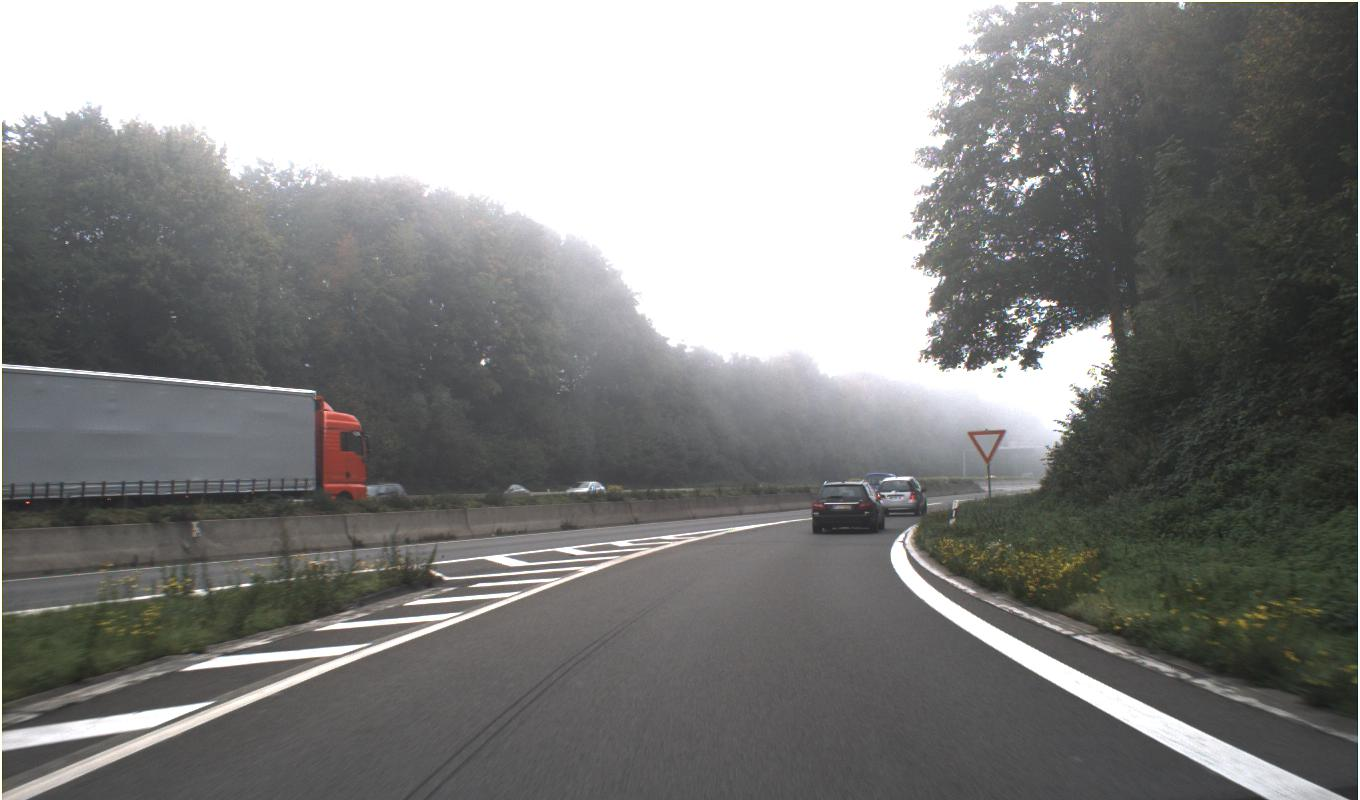sign: (966, 428, 1007, 464)
